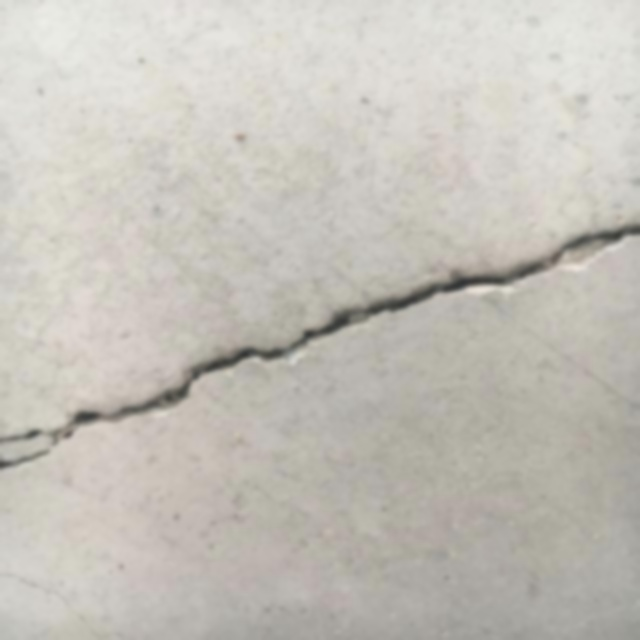SurfaceCrack: (1, 178, 640, 481)
